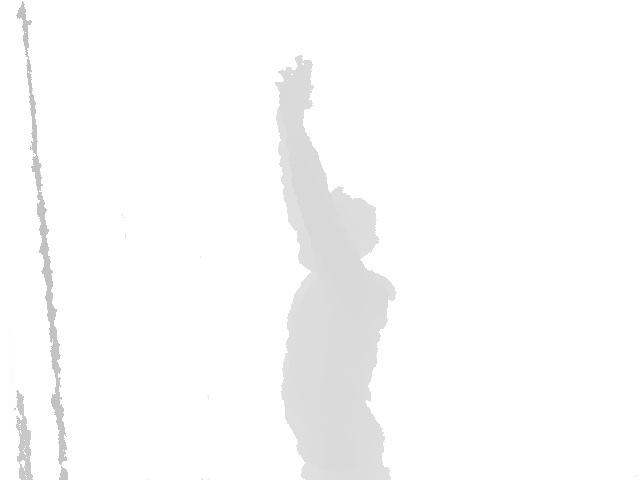hand: (275, 54, 315, 119)
head: (296, 188, 380, 272)
person: (275, 54, 397, 480)
